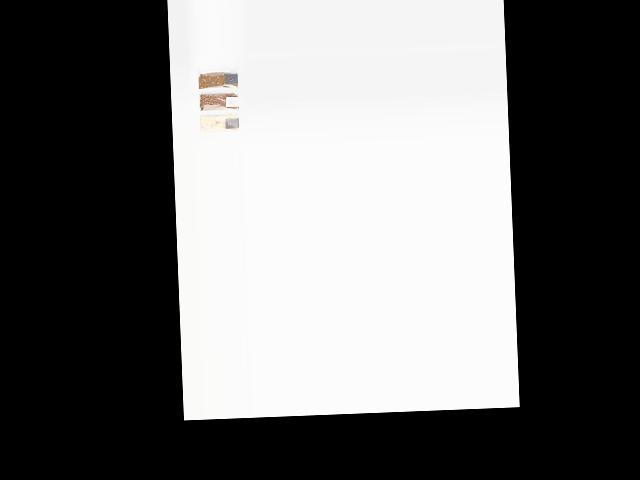chocolate: (196, 68, 237, 88)
